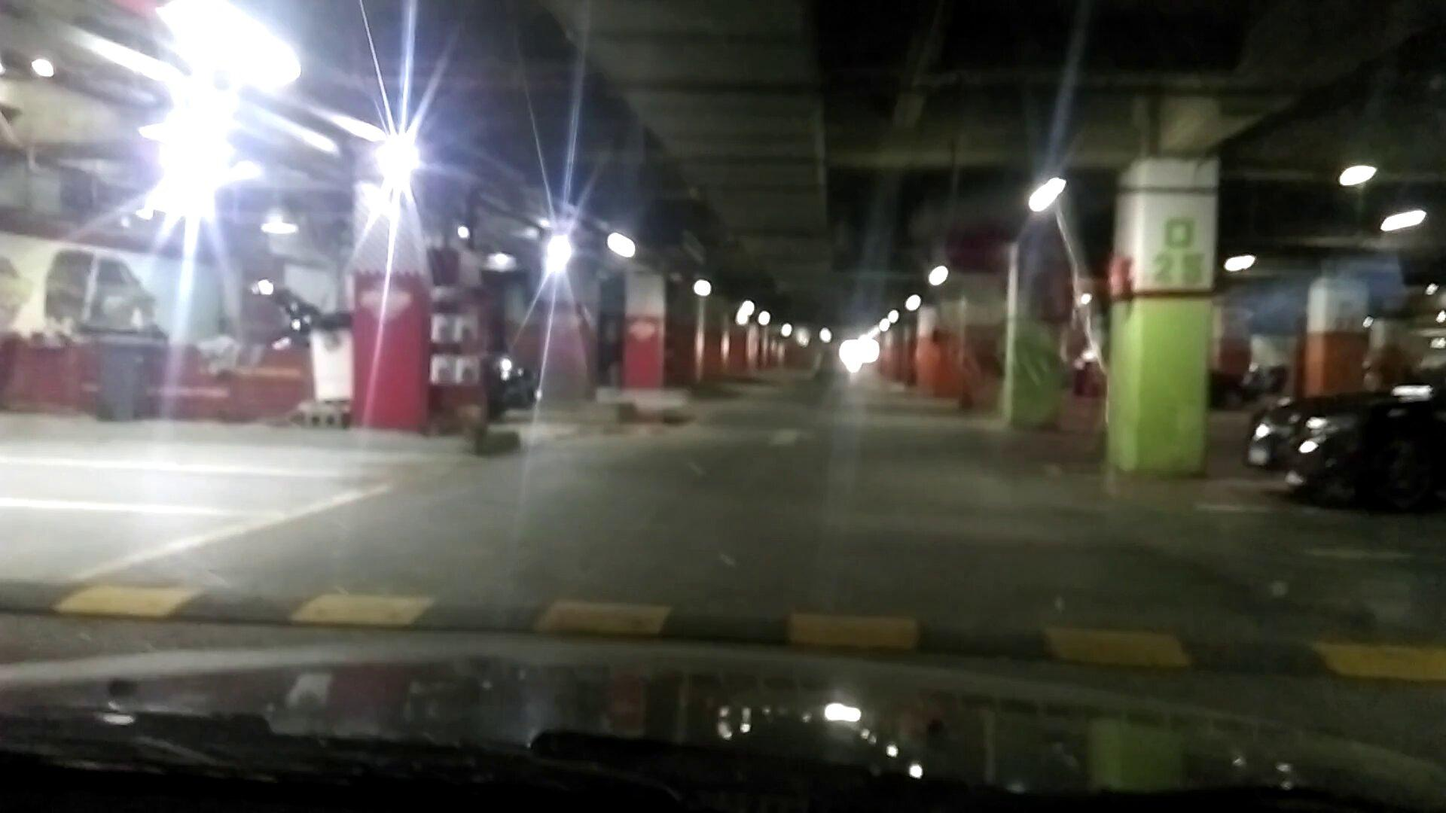Bump: (0, 577, 1445, 684)
